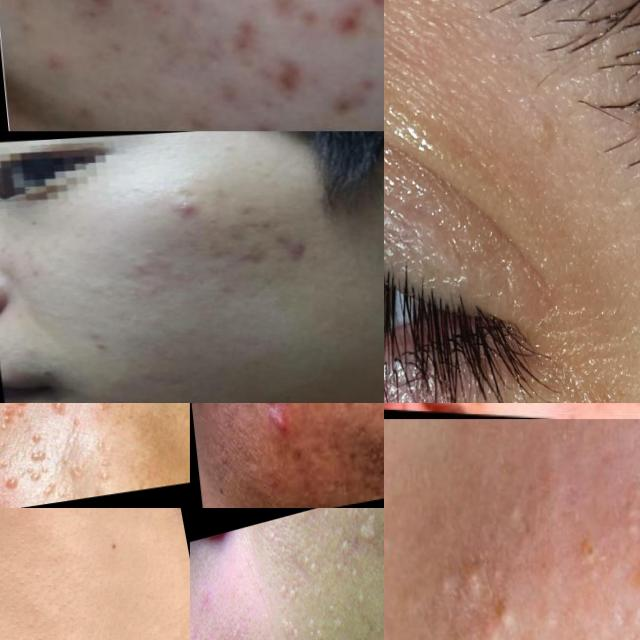acne_scars: (225, 210, 280, 240), (274, 234, 314, 266), (236, 241, 272, 275)
comedone: (331, 266, 369, 295), (89, 455, 117, 489), (164, 265, 192, 286), (74, 391, 112, 403), (0, 414, 14, 442), (128, 291, 141, 299), (127, 253, 140, 260)
cystic: (254, 403, 298, 447)
flat_wart: (278, 576, 302, 611), (304, 544, 322, 580), (303, 610, 323, 640), (262, 526, 280, 553), (282, 614, 297, 640), (338, 534, 352, 560), (229, 611, 241, 640)
keloid: (28, 444, 54, 483), (1, 473, 25, 496)
milium: (429, 560, 490, 614), (483, 597, 535, 640), (500, 498, 536, 535), (356, 524, 376, 547)
papule: (168, 195, 200, 220), (247, 403, 283, 410)
